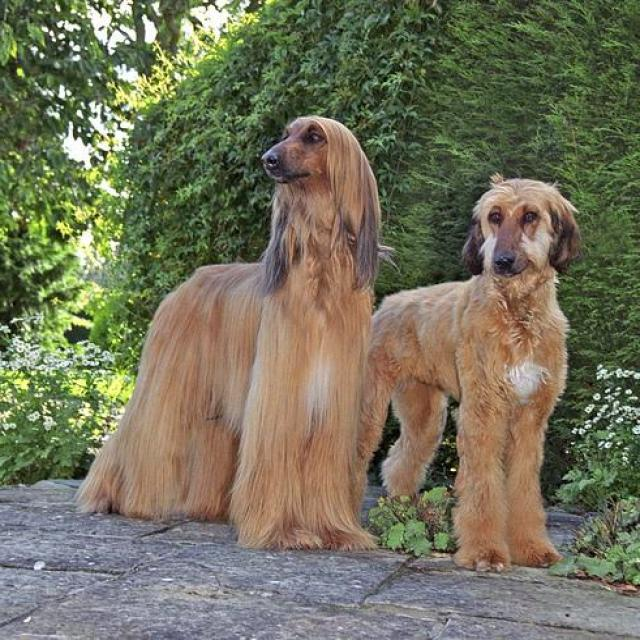afghan_hound: (73, 114, 387, 550), (350, 173, 584, 576)
